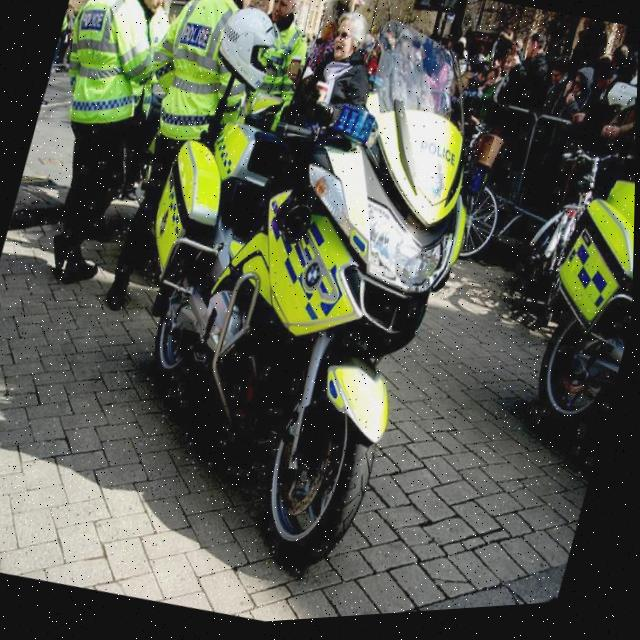motorcycle: (63, 0, 518, 602)
